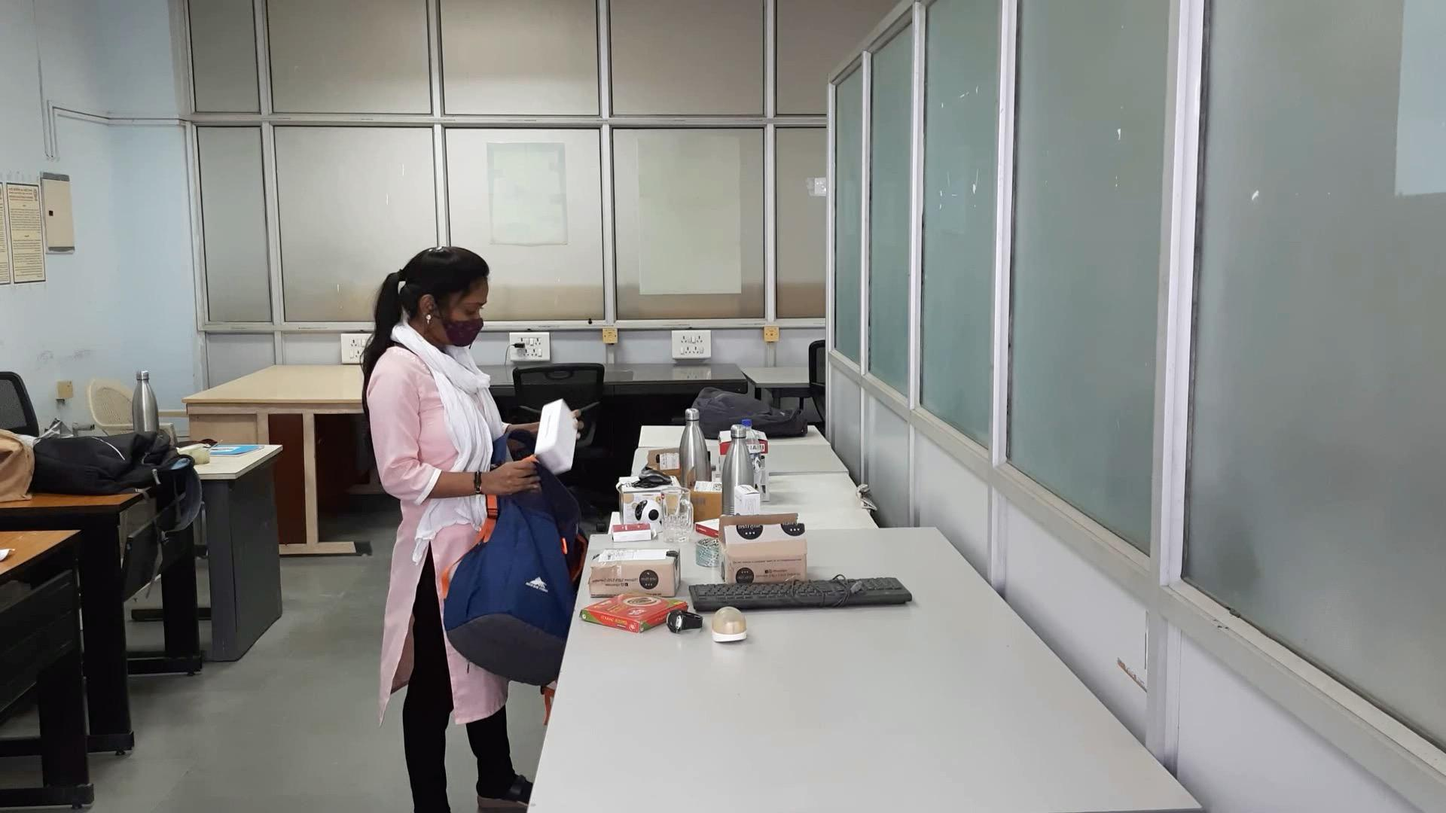shoplifting: (352, 372, 627, 711)
